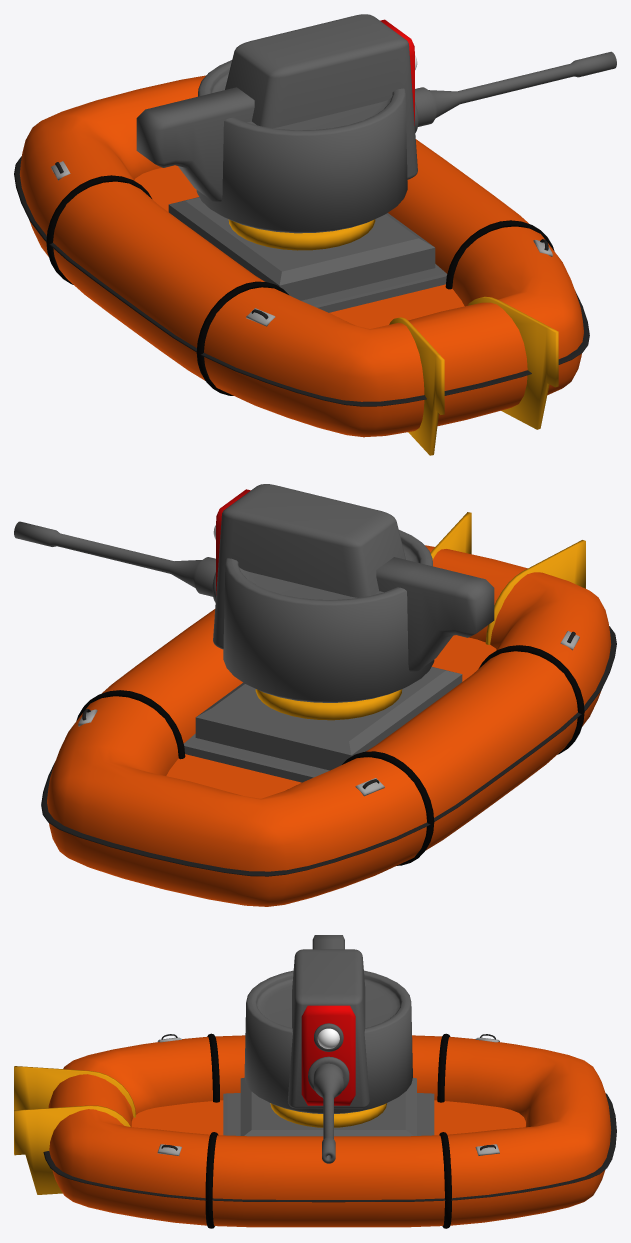
The model's file is EnemyBoat.fbx.
3 renders of one model, top to bottom at view 1: azimuth 30°, elevation 25°; view 2: azimuth 150°, elevation 25°; view 3: azimuth 270°, elevation 25°, orthographic. The views are drawn at different scales.
Parts seen in each view (by area): view 1: Circle.001; view 2: Circle.001; view 3: Circle.001.
Boxes of the visible parts, x1=… form: Circle.001: x1=14, y1=14, x2=616, y2=455; Circle.001: x1=14, y1=484, x2=616, y2=906; Circle.001: x1=14, y1=935, x2=616, y2=1228.
Bounding box in the file's own units: 1868 × 954 × 2487.
